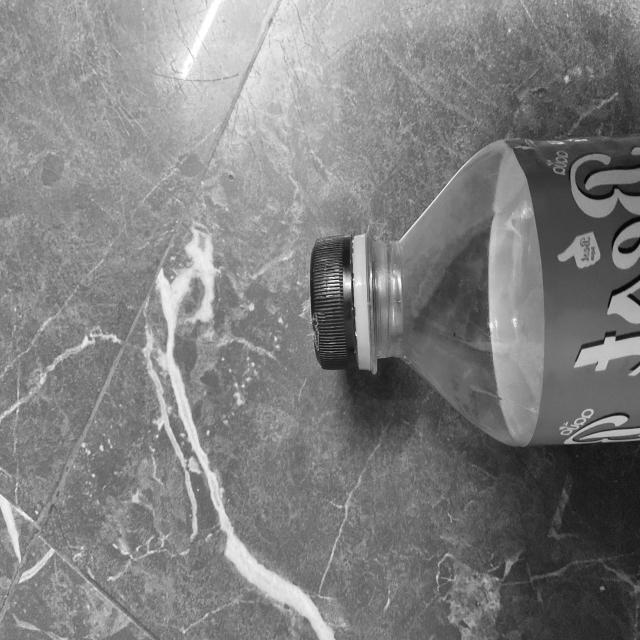Good-cap-Df0S: (308, 227, 372, 378)
